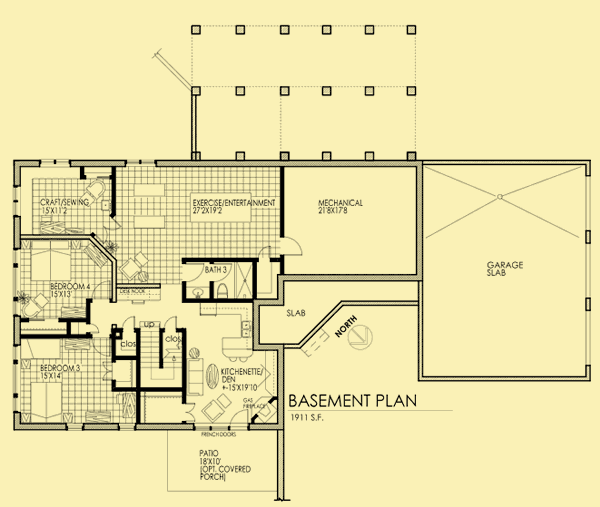bed: (29, 238, 73, 284), (25, 379, 65, 421)
door: (176, 258, 204, 284), (277, 232, 304, 258), (225, 407, 251, 431), (211, 260, 233, 282), (93, 333, 111, 359), (179, 399, 197, 423), (254, 243, 274, 261), (101, 359, 114, 385), (121, 314, 138, 332), (85, 318, 98, 338), (162, 315, 179, 330)
kitchen bar: (215, 332, 261, 365)
large sink: (212, 281, 233, 300)
large sofa: (186, 356, 207, 397)
small sofa: (117, 254, 144, 285), (86, 175, 108, 198), (200, 400, 224, 421)
stairs: (136, 328, 184, 391), (8, 342, 23, 414), (12, 245, 23, 321), (37, 156, 74, 171), (10, 183, 23, 219), (122, 156, 160, 168)
